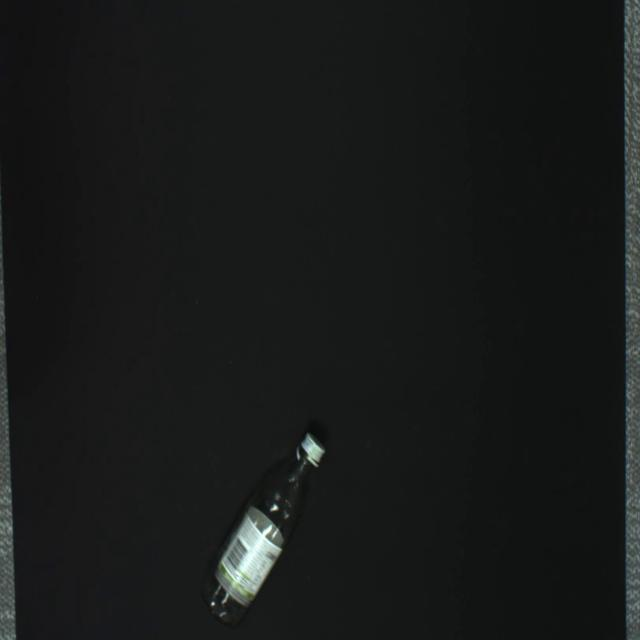soju-bottle: (200, 432, 327, 625)
